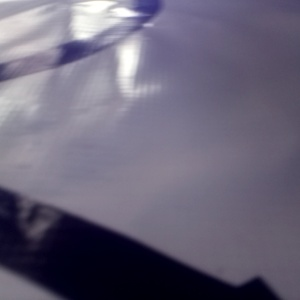bottom_left: (256, 81, 300, 154)
